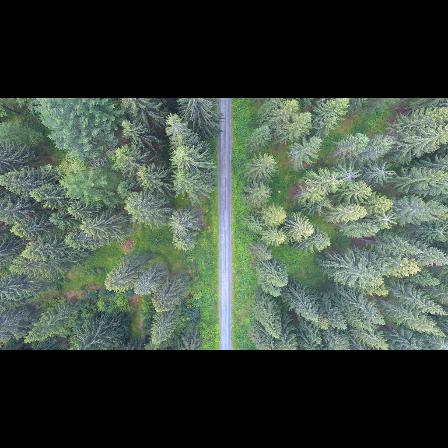Sick: (335, 161, 364, 189), (368, 159, 396, 187), (376, 208, 402, 234)
